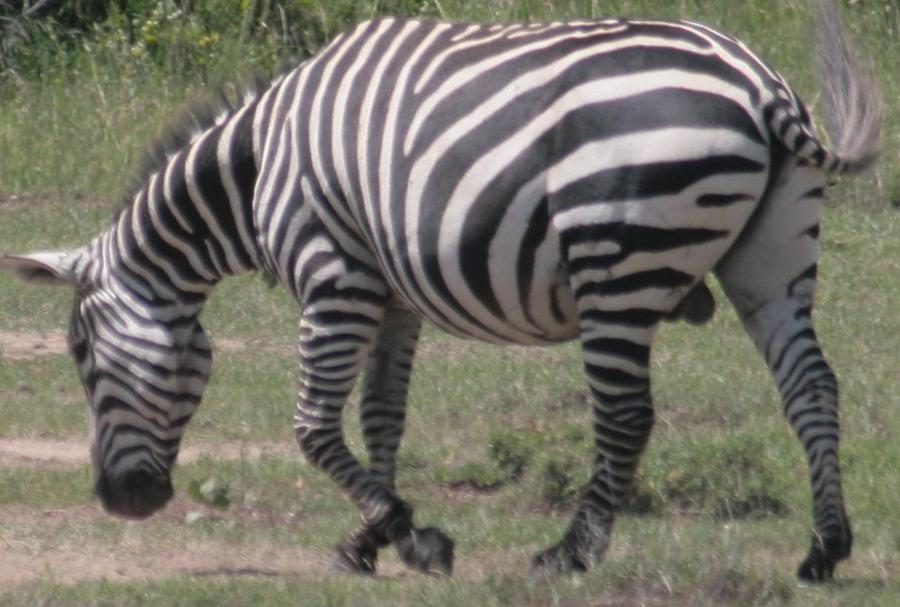zebra_plains: (231, 23, 718, 450)
